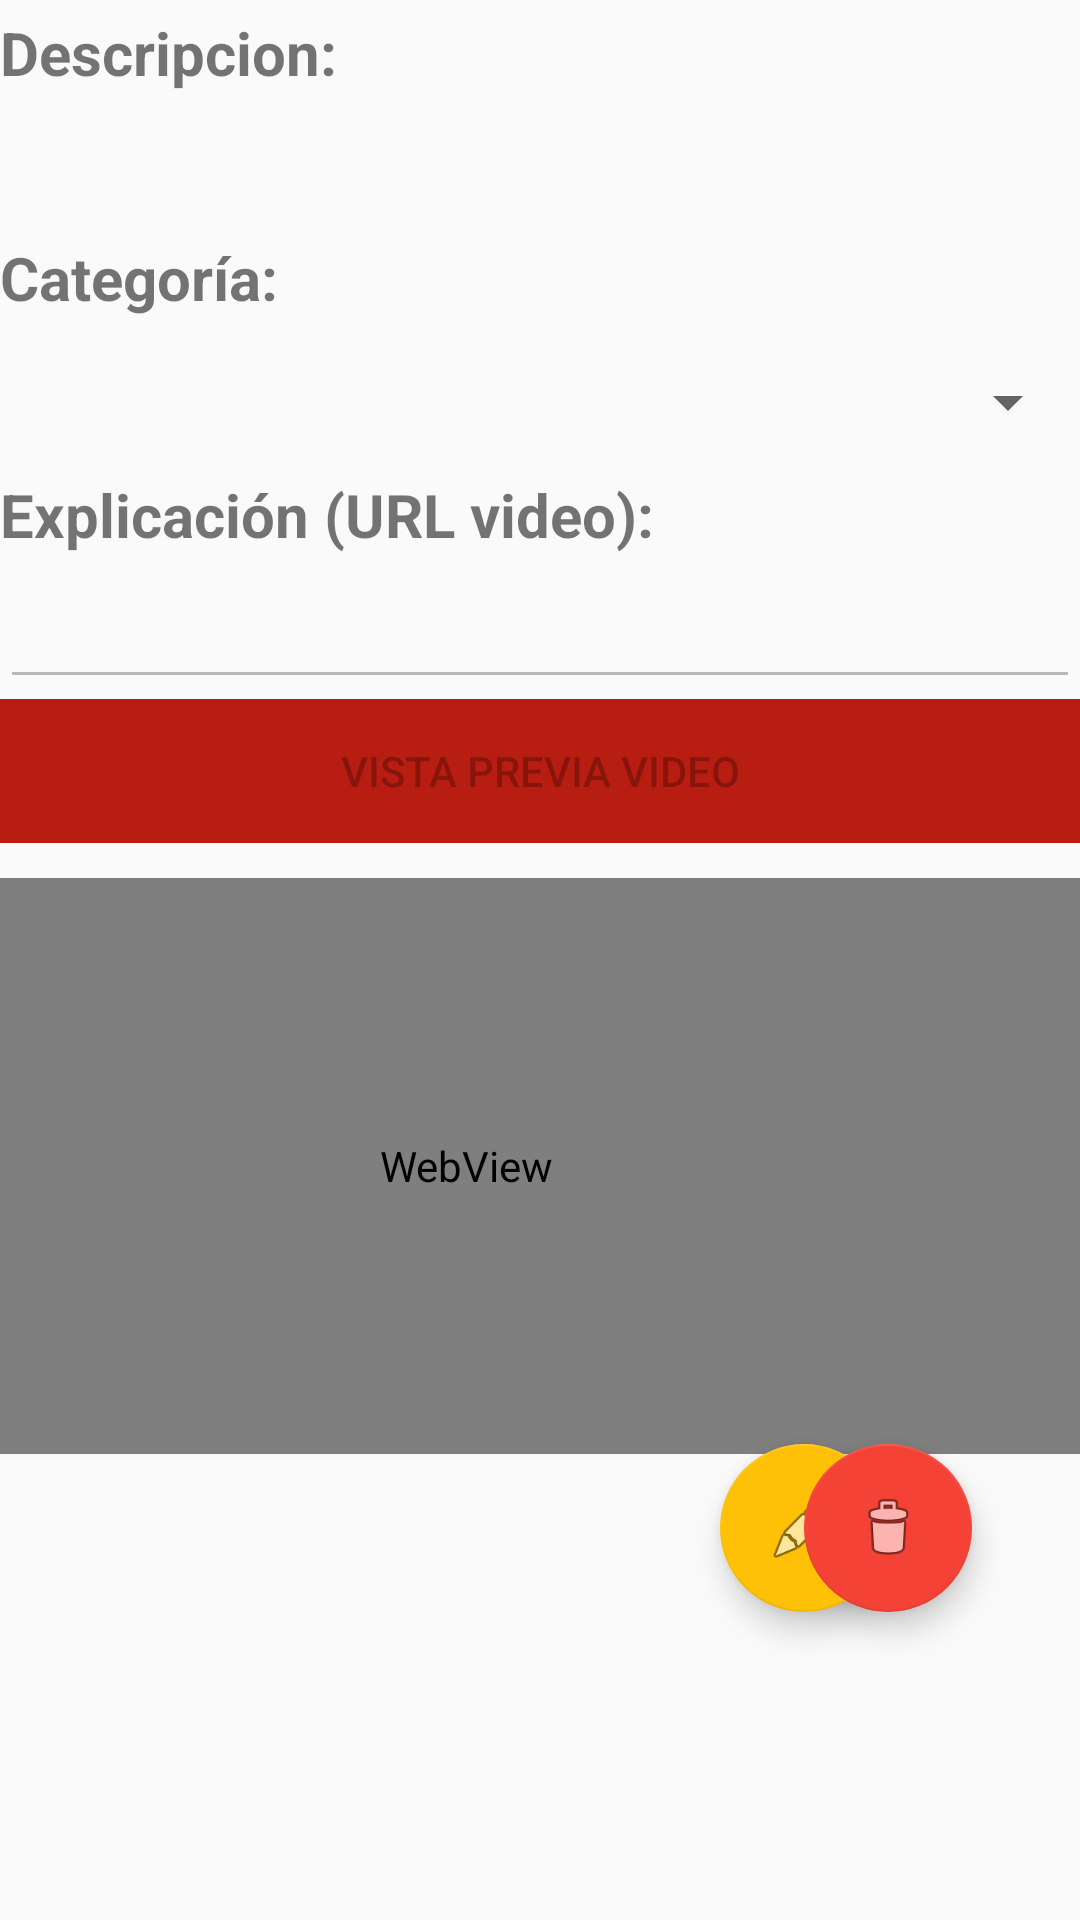

Where to tap for icons on this 1080px×1920px app screen, as (x=x, y=y):
delete: (x=888, y=1528)
